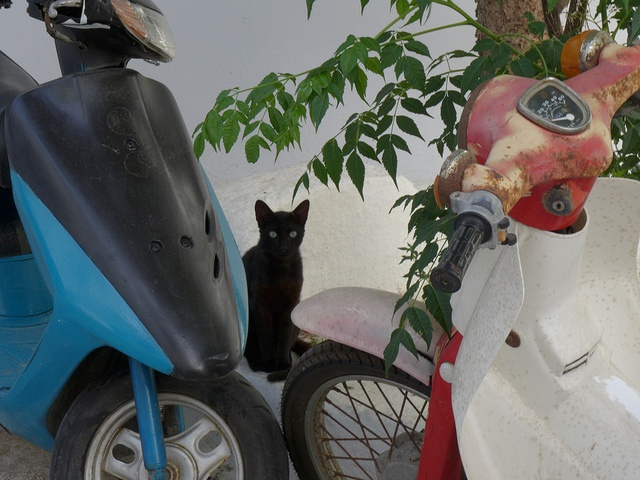non-vehicle: (278, 28, 638, 478), (1, 0, 293, 480)
